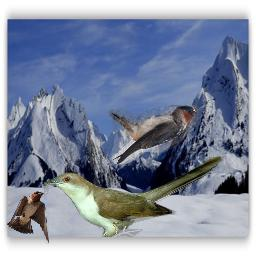Cuckoo: (44, 155, 223, 237)
Swallow: (109, 105, 201, 164), (7, 191, 49, 244)
